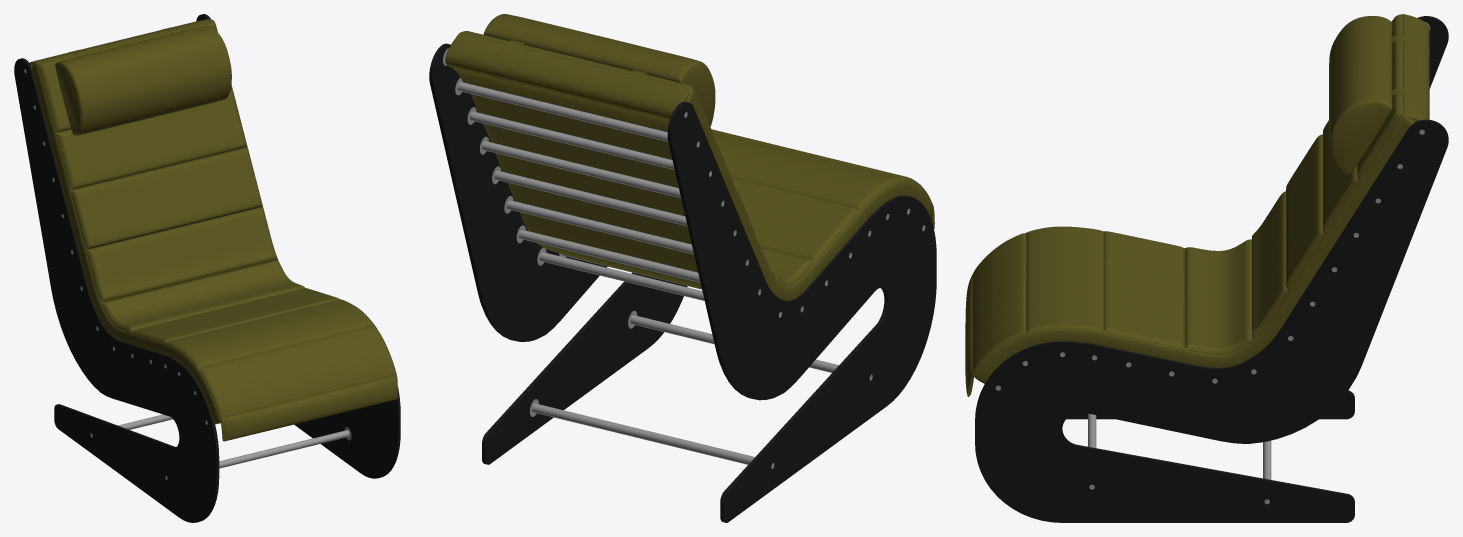
File: angel-poltrona-teknofibra-25.glb
3 views of the same model, side by side, from view 1: azimuth 30°, elevation 25°; view 2: azimuth 150°, elevation 25°; view 3: azimuth 270°, elevation 25° (orthographic). The views are drawn at different scales.
Visible parts, largest first — view 1: angel-seduta, angel-struttura, angel-tubolare; view 2: angel-struttura, angel-seduta, angel-tubolare; view 3: angel-struttura, angel-seduta, angel-tubolare.
Part boxes in pixels (x1,y1,x2,y2): angel-seduta: (29, 19, 397, 441); angel-struttura: (14, 14, 400, 522); angel-tubolare: (24, 66, 351, 479); angel-struttura: (429, 43, 936, 522); angel-seduta: (445, 14, 934, 300); angel-tubolare: (443, 48, 925, 468); angel-struttura: (975, 16, 1448, 522); angel-seduta: (965, 14, 1429, 396); angel-tubolare: (995, 22, 1430, 504).
Bounding box in the file's own units: 0.5685 × 1.04 × 1.1.
3 materials, 1 textured.
